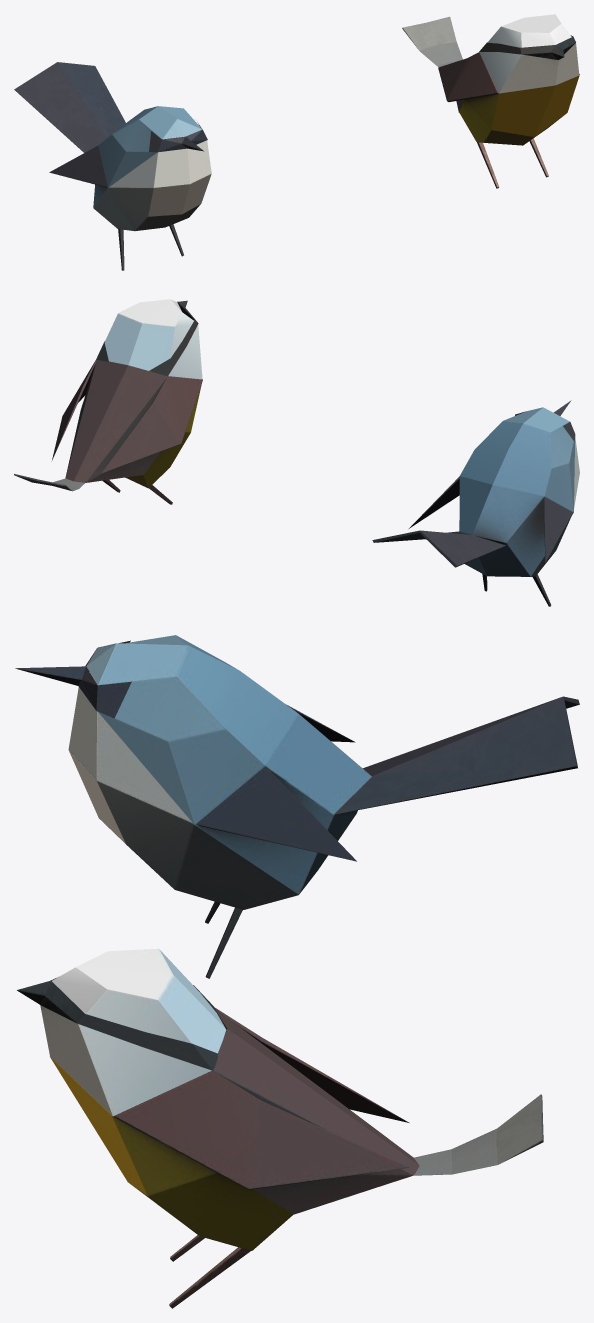
Rendered from paperBird.glb.
The picture shows the model from 3 angles, top to bottom: view 1: azimuth 30°, elevation 25°; view 2: azimuth 150°, elevation 25°; view 3: azimuth 270°, elevation 25°; orthographic projection. The views are drawn at different scales.
Visible parts, largest first — view 1: s_0039, s_0053; view 2: s_0053, s_0039; view 3: s_0039, s_0053.
Part boxes in pixels (x1=…): s_0039: x1=14, y1=62, x2=211, y2=270; s_0053: x1=402, y1=14, x2=579, y2=188; s_0053: x1=14, y1=299, x2=202, y2=504; s_0039: x1=372, y1=400, x2=579, y2=606; s_0039: x1=15, y1=635, x2=579, y2=978; s_0053: x1=17, y1=948, x2=543, y2=1308.
Bounding box in the file's own units: 0.4513 × 0.1507 × 0.2419.
1 material, 1 textured.
